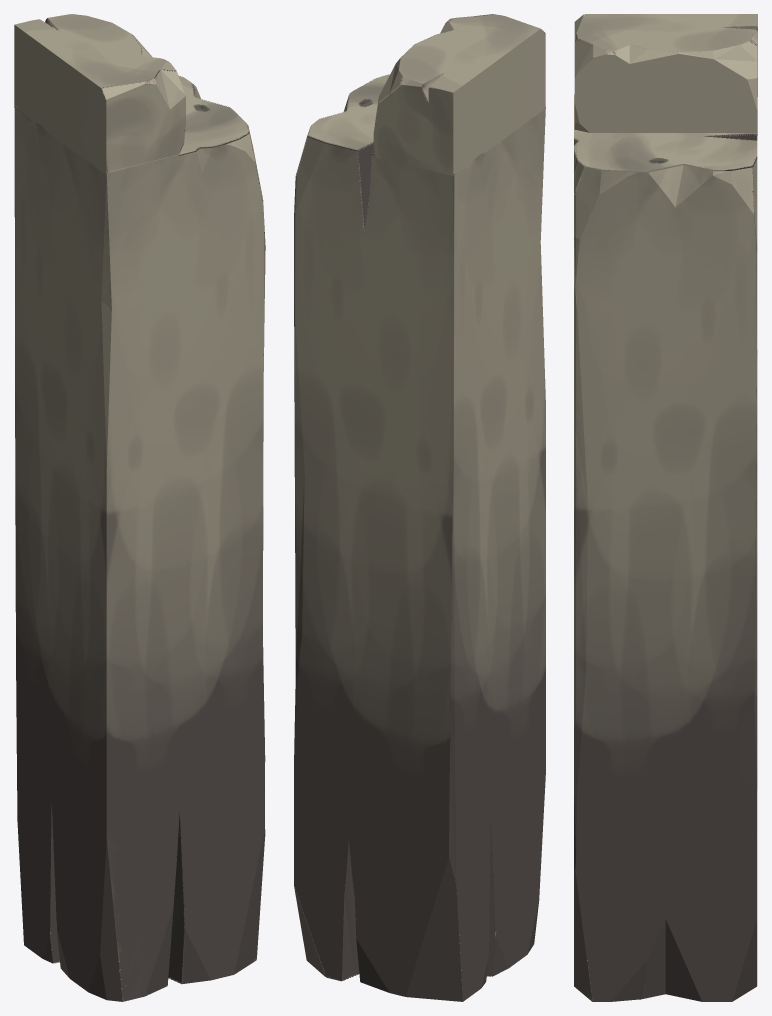
Rendered from Escaliers_1.fbx.
3 views of the same model, side by side, from view 1: azimuth 30°, elevation 25°; view 2: azimuth 150°, elevation 25°; view 3: azimuth 270°, elevation 25° (orthographic).
Parts seen in each view (by area): view 1: Box001, Box004; view 2: Box001, Box004; view 3: Box001, Box004.
Boxes of the visible parts, bbox=[...] form: Box001: bbox=[14, 75, 265, 1001]; Box004: bbox=[14, 14, 185, 174]; Box001: bbox=[294, 74, 545, 1001]; Box004: bbox=[373, 14, 545, 175]; Box001: bbox=[574, 94, 757, 1001]; Box004: bbox=[574, 14, 757, 135].
Size of the model in its own units: 39.44 by 216 by 39.51.
